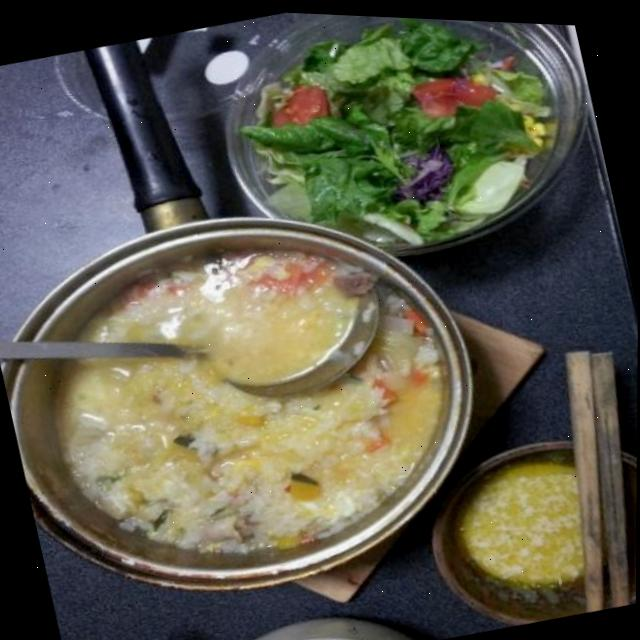蔬菜料理: (196, 7, 600, 282)
